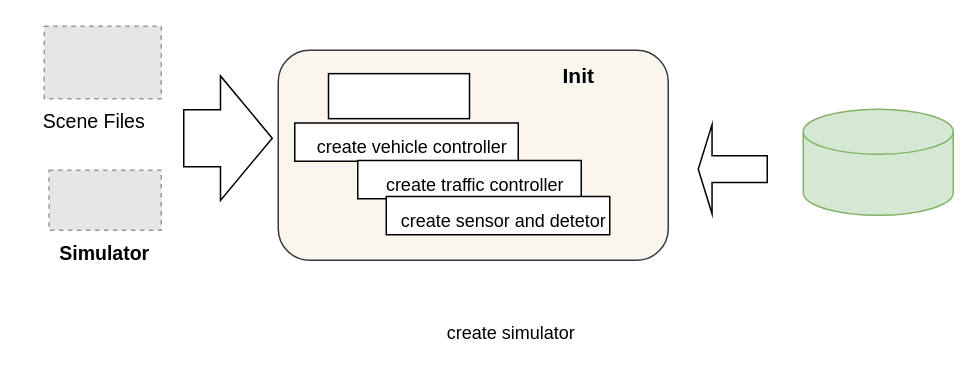
This 980x383 diagram has some shape labels left out. Grey dashed boxes stand in for pictures. Each missing label, with the box of its shape:
initialize scene: (327, 72, 470, 119)
txVehicles: (802, 108, 953, 215)
